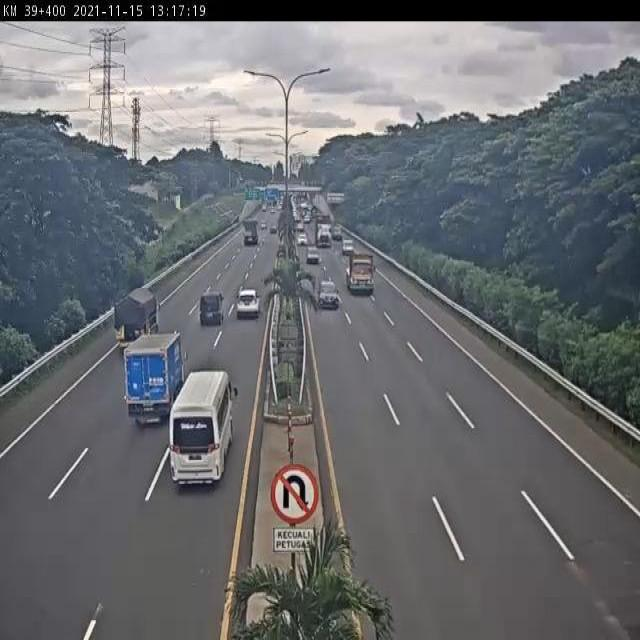bus-s-: (168, 367, 238, 488)
car: (198, 289, 224, 331), (236, 284, 262, 319), (317, 276, 342, 312)
truck-l-: (342, 251, 377, 296)
truck-s-: (123, 328, 184, 420), (114, 287, 161, 356)
